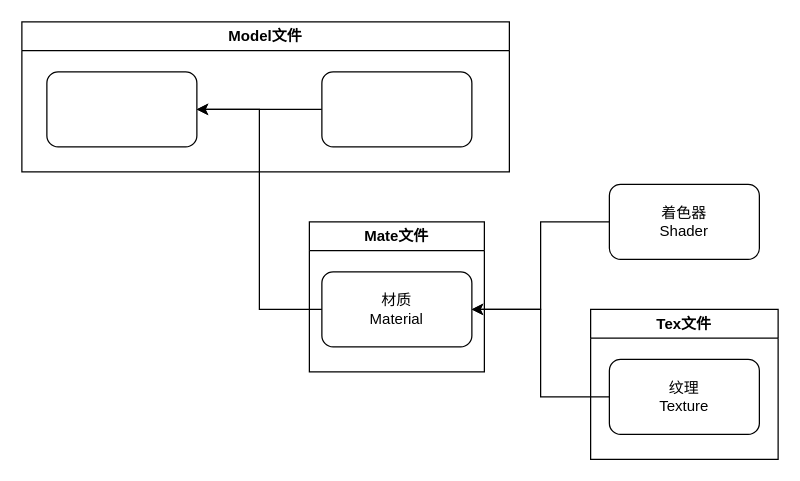
The diagram is 800 pixels wide and 481 high, and some of its shapes have lost their labels. Here are the shapes that lost their labels. From the top down, the centre of each, then its label:
At (121,109): "物体 Object".
At (396,109): "网格 Mesh".
